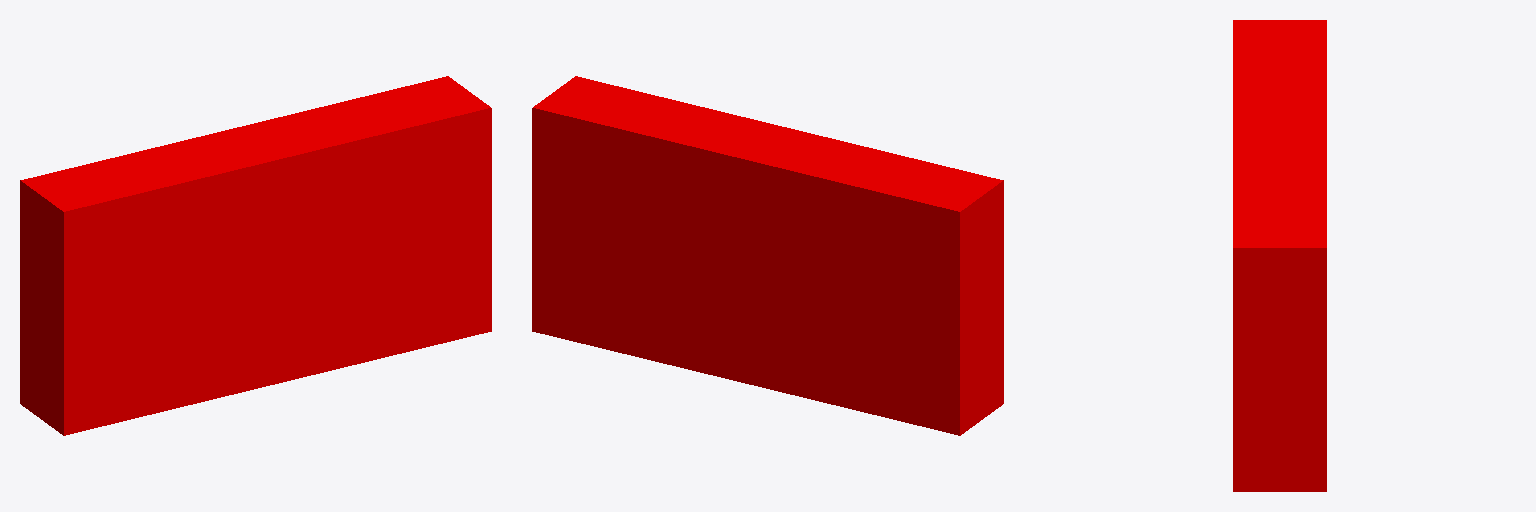
The robot description file, URDF, robot "box_red":
<?xml version="1.0" ?>
<robot name="box_red">

  <link name="base_link">

    <inertial>
      <origin rpy="0.0 0.0 0.0" xyz="0.0 0.0 0.0"/>
      <mass value="50.0"/>
      <inertia ixx="0.1871" ixy="0.0" ixz="0.0" iyy="0.8333" iyz="0.0" izz="0.6871"/>
    </inertial>

    <visual>
      <origin rpy="0.0 0.0 0.0" xyz="0.0 0.0 0.025"/>
      <geometry>
        <box size="0.4 0.07 0.2"/>
      </geometry>
      <material name="red">
        <color rgba="1 0 0 1"/>
      </material>
    </visual>

    <collision>
      <origin rpy="0.0 0.0 0.0" xyz="0.0 0.0 0.025"/>
      <geometry>
        <box size="0.4 0.07 0.2"/>
      </geometry>
    </collision>

  </link>

  <gazebo reference="base_link">
    <material>Gazebo/Red</material>
  </gazebo>

</robot>

--- Facts derived from the render (not from the file) ---
Views: 3 orthographic renders of the robot side by side, from view 1: azimuth 30°, elevation 25°; view 2: azimuth 150°, elevation 25°; view 3: azimuth 270°, elevation 25°.
Model box_red with 1 links and 0 joints (none), rooted at base_link, posed all joints at 0.
Links seen in each view (by area): view 1: base_link; view 2: base_link; view 3: base_link.
Link boxes in pixels (<box>): base_link: <box>20,76,491,435</box>; base_link: <box>532,76,1003,435</box>; base_link: <box>1233,20,1326,491</box>.
Bounding box of the posed robot: 0.4 × 0.07 × 0.2 m (x, y, z).
Geometry: primitives only (box / cylinder / sphere), no mesh files.